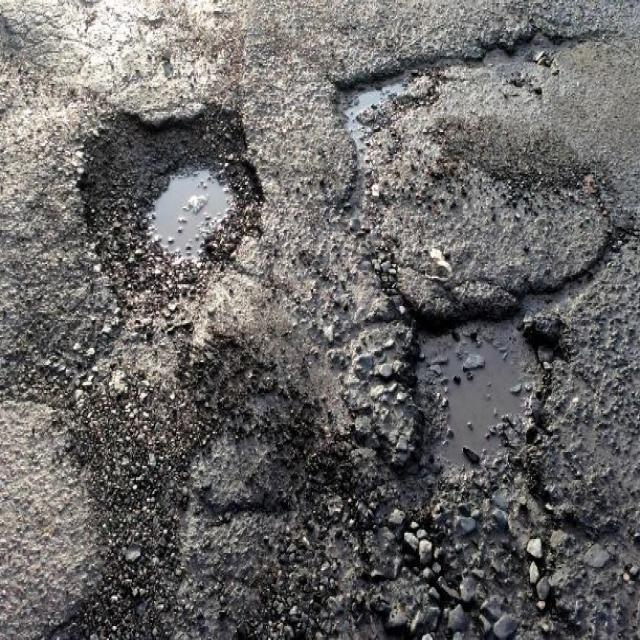pothole: (387, 302, 570, 512), (72, 100, 267, 284)
